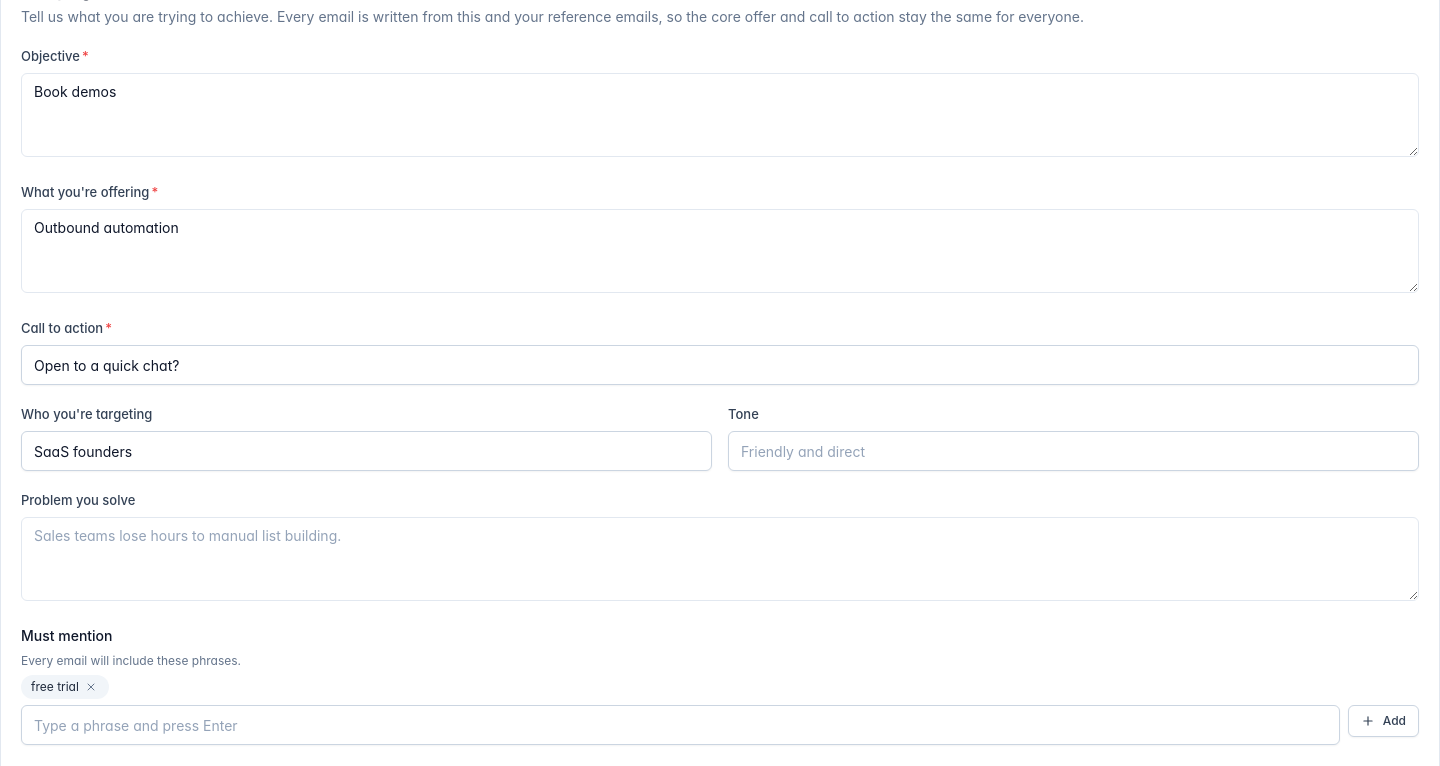
ObjectiveForm › keeps Save disabled until something changed
Type "Warm" into the field labelled "Tone" at (1074, 451), box top-left (728, 431), bottom-right (1419, 471)
(page scrolled)
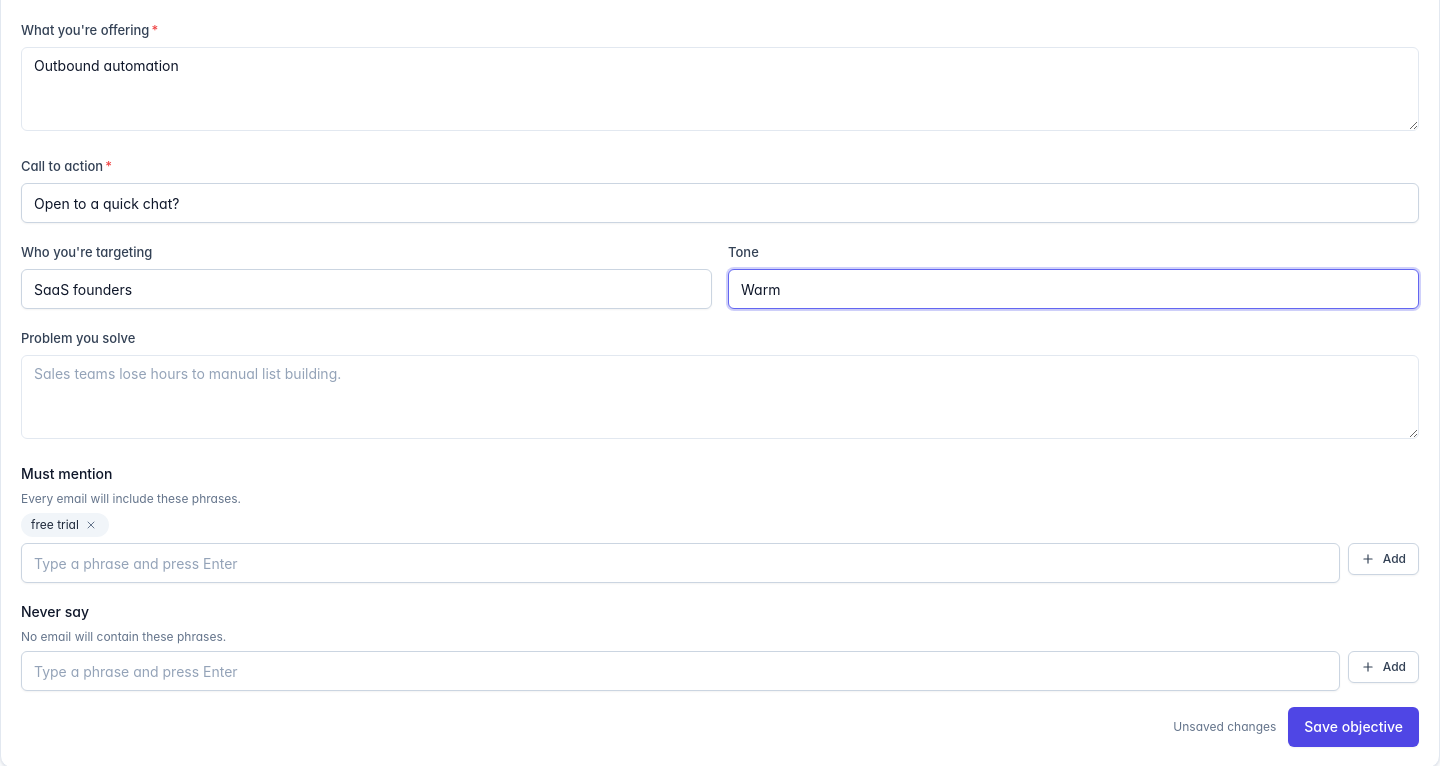
Expected: the button "Save objective" is enabled, top-left (1288, 707), bottom-right (1419, 747)
Expected: the text "Unsaved changes" is shown, top-left (1173, 719), bottom-right (1276, 735)
